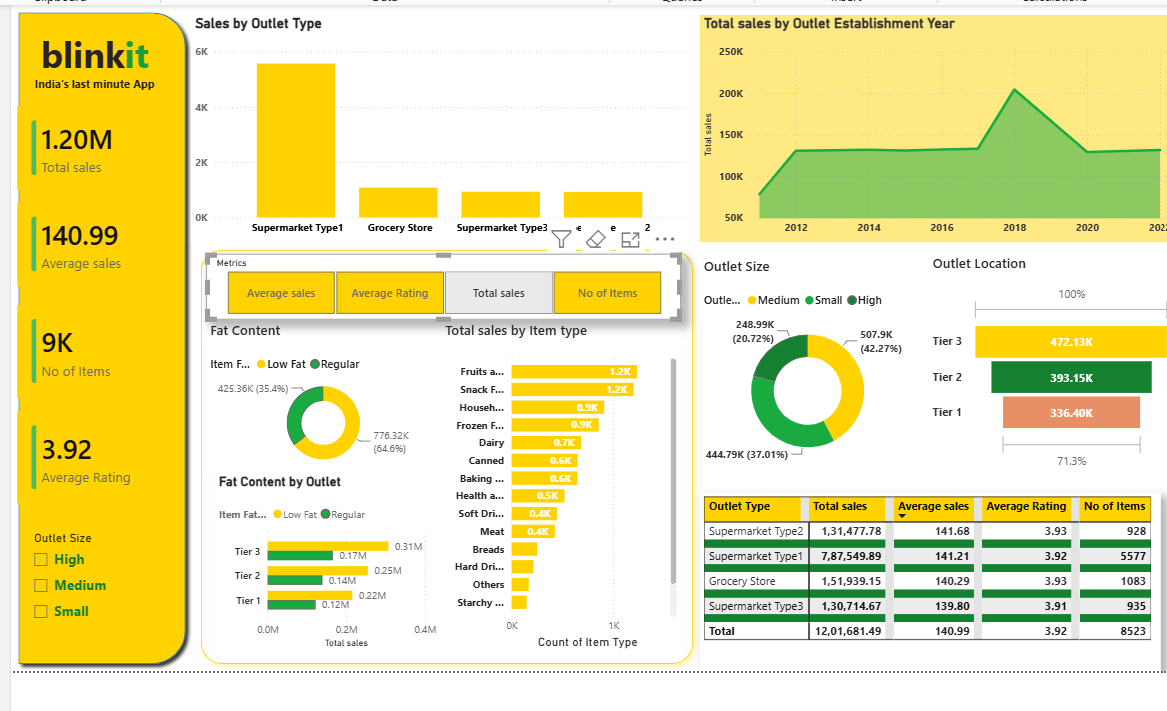

The dashboard page shown, as its layout file describes it:
{"tool":"powerbi","page":{"name":"Page 2","canvas":[1400,800],"ordinal":0},"visuals":[{"type":"shape","box":[0,0,218.8,800.3],"z":0},{"type":"textbox","box":[0,24.5,201.1,137.2],"z":1000},{"type":"shape","box":[218.8,285.3,608.7,514.9],"z":3000},{"type":"donutChart","title":"Fat Content","fields":{"Category":["BlinkIT Grocery Data (2).Item Fat Content"],"Y":["BlinkIT Grocery Data (2).Average sales"]},"box":[234.1,378.2,282.2,184.6],"z":4000},{"type":"slicer","fields":{"Values":["Metrics.Metrics"]},"box":[233.7,298.9,570.7,78.8],"z":5000},{"type":"clusteredBarChart","title":"Fat Content by Outlet","fields":{"Category":["BlinkIT Grocery Data (2).Outlet Location Type"],"Series":["BlinkIT Grocery Data (2).Item Fat Content"],"Y":["BlinkIT Grocery Data (2).Average sales"]},"box":[244.6,562.5,271.7,214.7],"z":6000},{"type":"barChart","title":"Total sales by Item type","fields":{"Category":["BlinkIT Grocery Data (2).Item Type"],"Y":["CountNonNull(BlinkIT Grocery Data (2).Item Type)"]},"box":[516.3,378.2,288.2,399.2],"z":7000},{"type":"lineChart","fields":{"Category":["BlinkIT Grocery Data (2).Outlet Establishment Year"],"Y":["BlinkIT Grocery Data (2).Total sales"]},"box":[827,12,571.8,273.2],"z":8000},{"type":"donutChart","title":" Outlet Size","fields":{"Category":["BlinkIT Grocery Data (2).Outlet Size"],"Y":["BlinkIT Grocery Data (2).Total sales"]},"box":[827.5,301.6,259.5,260.9],"z":9000},{"type":"funnel","title":" Outlet Location ","fields":{"Category":["BlinkIT Grocery Data (2).Outlet Location Type"],"Y":["BlinkIT Grocery Data (2).Total sales"]},"box":[1101.9,298.9,297.6,263.6],"z":10000},{"type":"pivotTable","fields":{"Rows":["BlinkIT Grocery Data (2).Outlet Type"],"Values":["BlinkIT Grocery Data (2).Total sales","BlinkIT Grocery Data (2).Average sales","BlinkIT Grocery Data (2).Average Rating","BlinkIT Grocery Data (2).No of Items"]},"box":[827,585.3,553.8,214.6],"z":11000},{"type":"slicer","fields":{"Values":["BlinkIT Grocery Data (2).Outlet Size"]},"box":[15,625.9,186.1,133.6],"z":12000},{"type":"cardVisual","fields":{"Data":["BlinkIT Grocery Data (2).Total sales"]},"box":[7.5,121.6,186.1,100.6],"z":13000},{"type":"cardVisual","fields":{"Data":["BlinkIT Grocery Data (2).Average sales"]},"box":[7.5,237.1,186.1,100.6],"z":14000},{"type":"cardVisual","fields":{"Data":["BlinkIT Grocery Data (2).No of Items"]},"box":[7.5,360.2,186.1,111.1],"z":15000},{"type":"cardVisual","fields":{"Data":["BlinkIT Grocery Data (2).Average Rating"]},"box":[7.5,487.8,186.1,111.1],"z":16000},{"type":"columnChart","title":" Sales by Outlet Type","fields":{"Category":["BlinkIT Grocery Data (2).Outlet Type"],"Y":["CountNonNull(BlinkIT Grocery Data (2).Sales)"]},"box":[216.1,12,600.3,273.2],"z":17000}]}

Visuals, with their boxes on the page's 1400x800 design canvas (x1, y1, x2, y2). These are canvas units, not pixel positions in the 1167x711 screenshot, which may show the page scaled, cropped or inside an application window:
shape: [0, 0, 219, 800]
textbox: [0, 24, 201, 162]
shape: [219, 285, 828, 800]
"Fat Content" donutChart: [234, 378, 516, 563]
slicer - Metrics.Metrics: [234, 299, 804, 378]
"Fat Content by Outlet" clusteredBarChart: [245, 562, 516, 777]
"Total sales by Item type" barChart: [516, 378, 804, 777]
lineChart - BlinkIT Grocery Data (2).Outlet Establishment Year x BlinkIT Grocery Data (2).Total sales: [827, 12, 1399, 285]
" Outlet Size" donutChart: [828, 302, 1087, 562]
" Outlet Location " funnel: [1102, 299, 1400, 562]
pivotTable - BlinkIT Grocery Data (2).Outlet Type x BlinkIT Grocery Data (2).Total sales: [827, 585, 1381, 800]
slicer - BlinkIT Grocery Data (2).Outlet Size: [15, 626, 201, 760]
cardVisual - BlinkIT Grocery Data (2).Total sales: [8, 122, 194, 222]
cardVisual - BlinkIT Grocery Data (2).Average sales: [8, 237, 194, 338]
cardVisual - BlinkIT Grocery Data (2).No of Items: [8, 360, 194, 471]
cardVisual - BlinkIT Grocery Data (2).Average Rating: [8, 488, 194, 599]
" Sales by Outlet Type" columnChart: [216, 12, 816, 285]
